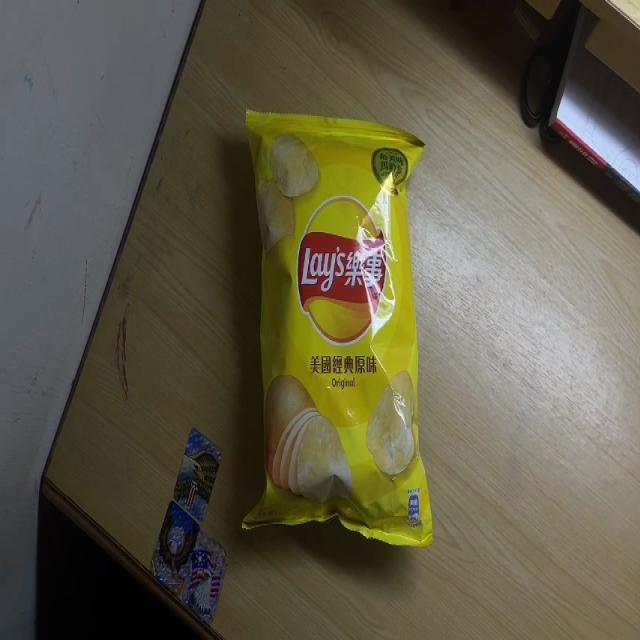Lay-s-original: (238, 102, 436, 548)
